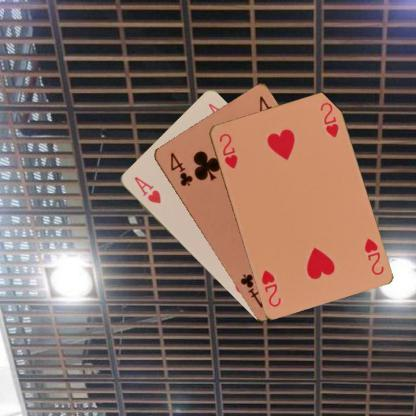2h: (361, 235, 385, 276), (216, 130, 239, 170)
4c: (167, 149, 194, 188)
Ah: (132, 174, 162, 204)
